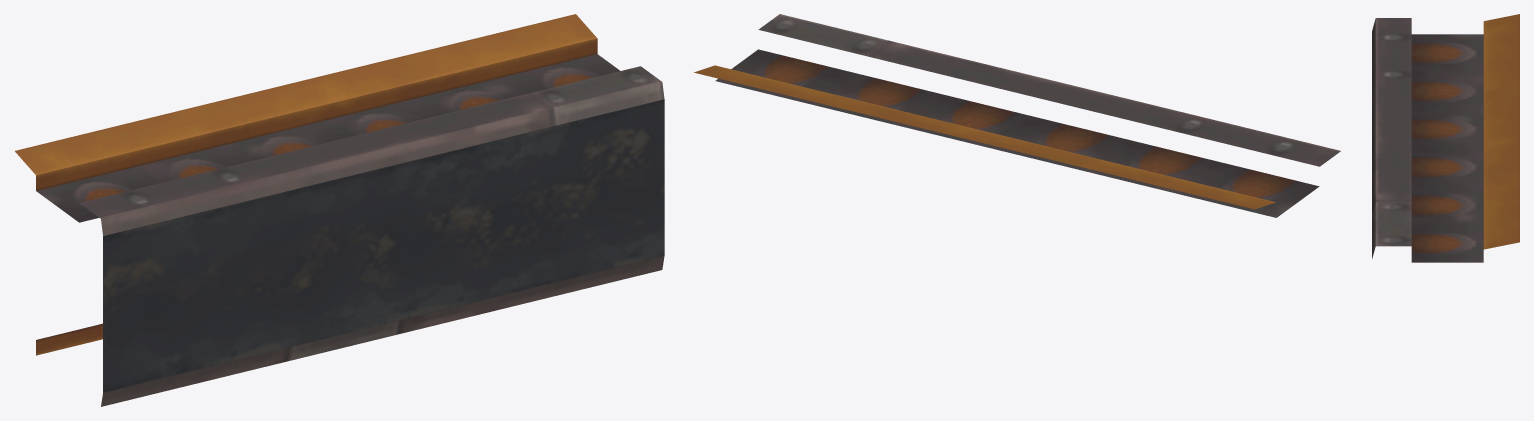
Rendered from conveyor_x3_02.glb.
3 views of the same model, side by side, from view 1: azimuth 30°, elevation 25°; view 2: azimuth 150°, elevation 25°; view 3: azimuth 270°, elevation 25° (orthographic). The views are drawn at different scales.
Parts seen in each view (by area): view 1: factory.conveyor_x3_02-MeshNodes["belt_on"], factory.conveyor_x3_02-MeshNodes["conveyor_base"]; view 2: factory.conveyor_x3_02-MeshNodes["conveyor_base"]; view 3: factory.conveyor_x3_02-MeshNodes["conveyor_base"].
Boxes of the visible parts, box(x1,y1,x2,y2) form: factory.conveyor_x3_02-MeshNodes["belt_on"]: box(103, 99, 664, 392); factory.conveyor_x3_02-MeshNodes["conveyor_base"]: box(15, 14, 664, 406); factory.conveyor_x3_02-MeshNodes["conveyor_base"]: box(694, 14, 1340, 217); factory.conveyor_x3_02-MeshNodes["conveyor_base"]: box(1372, 14, 1519, 262).
Bounding box in the file's own units: 3 × 1.01 × 0.82.
Materials: 2 (2 with a texture image).
